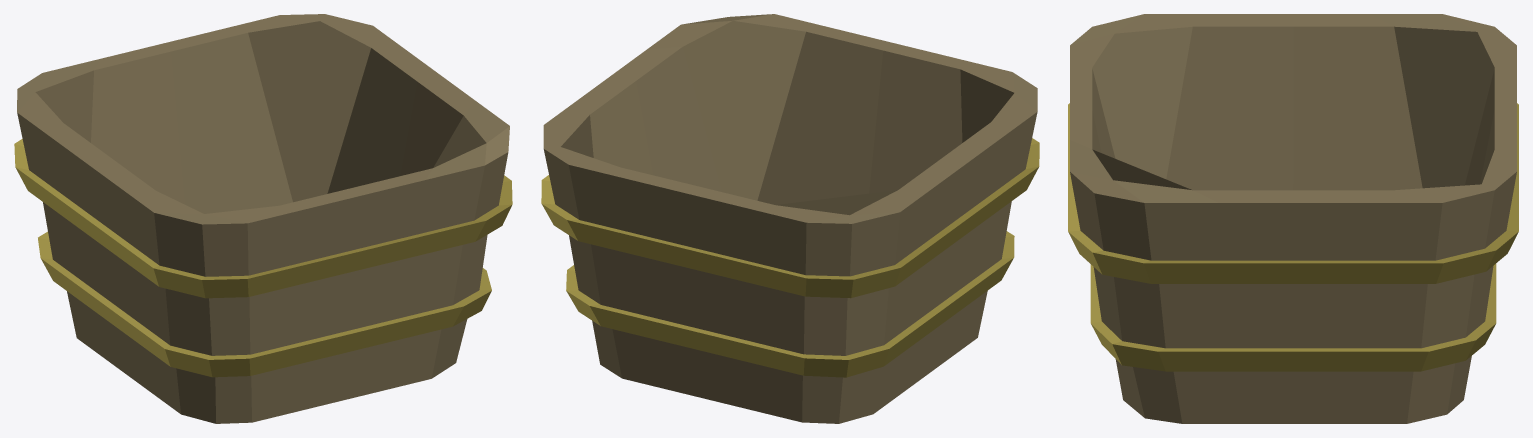
File: basket.fbx
3 renders of one model, left to right at view 1: azimuth 30°, elevation 25°; view 2: azimuth 150°, elevation 25°; view 3: azimuth 270°, elevation 25°, orthographic. The views are drawn at different scales.
Visible parts, largest first — view 1: basket; view 2: basket; view 3: basket.
Part boxes in pixels (x1,y1,x2,y2): basket: (14, 14, 512, 423); basket: (541, 14, 1039, 423); basket: (1068, 14, 1518, 423).
Bounding box in the file's own units: 2.32 × 1.41 × 2.33.
